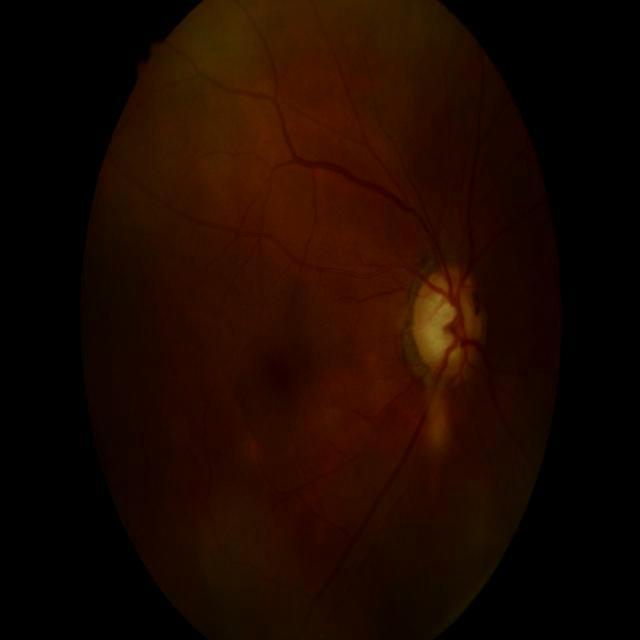cup: (425, 290, 476, 358)
disk: (410, 261, 490, 387)
